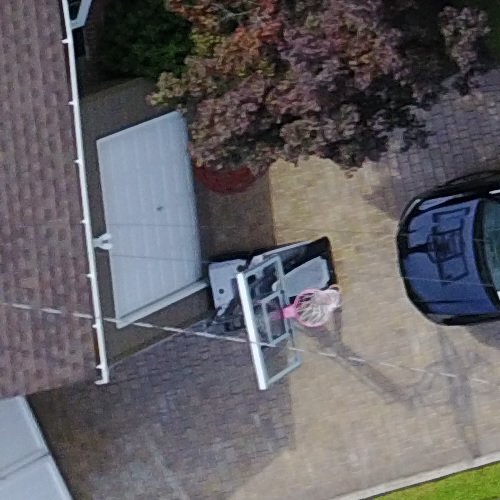basketball: (190, 241, 372, 403)
